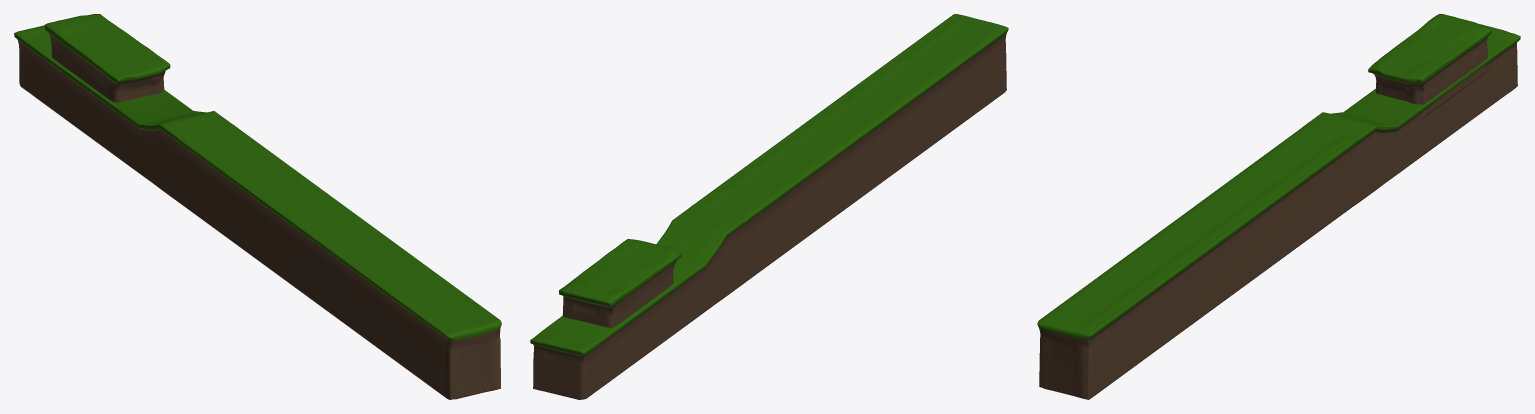
The picture shows the model from 3 angles, left to right: view 1: azimuth 30°, elevation 25°; view 2: azimuth 150°, elevation 25°; view 3: azimuth 330°, elevation 25°; orthographic projection.
Parts seen in each view (by area): view 1: Cube.053; view 2: Cube.053; view 3: Cube.053.
Part boxes in pixels (x1,y1,x2,y2): Cube.053: [14, 14, 501, 399]; Cube.053: [530, 14, 1008, 399]; Cube.053: [1037, 14, 1520, 399].
Size of the model in its own units: 328 by 456 by 4390.
